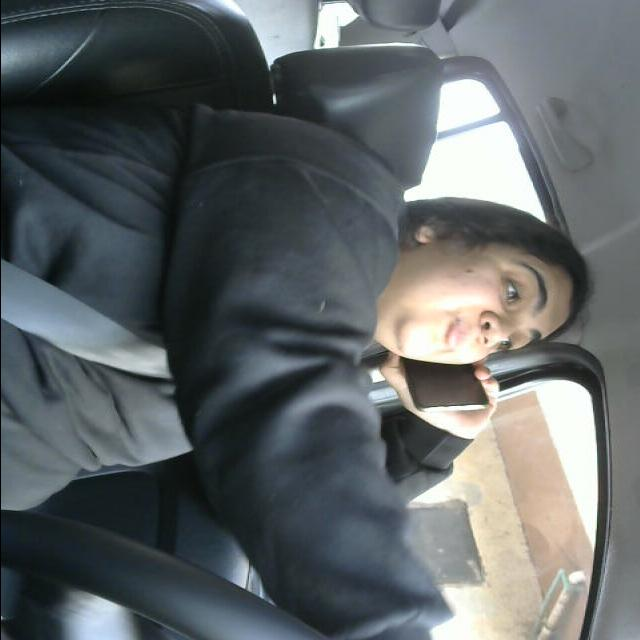mobile use: (406, 356, 486, 418)
